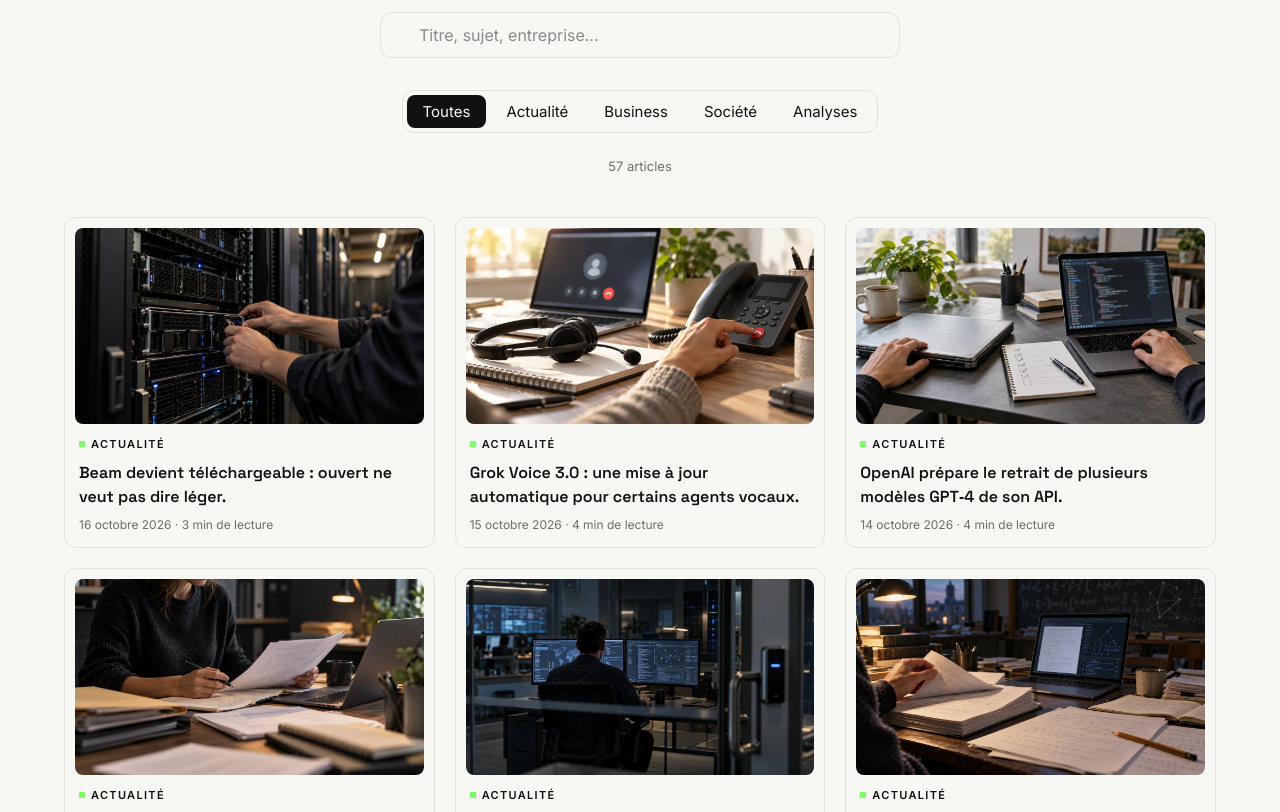
Test case: ArticleBrowser › shows the empty state with a reset link when nothing matches
Type "zzzz" into the search field named "Rechercher un article" at {"x": 653, "y": 35}, box [419,13,887,57]
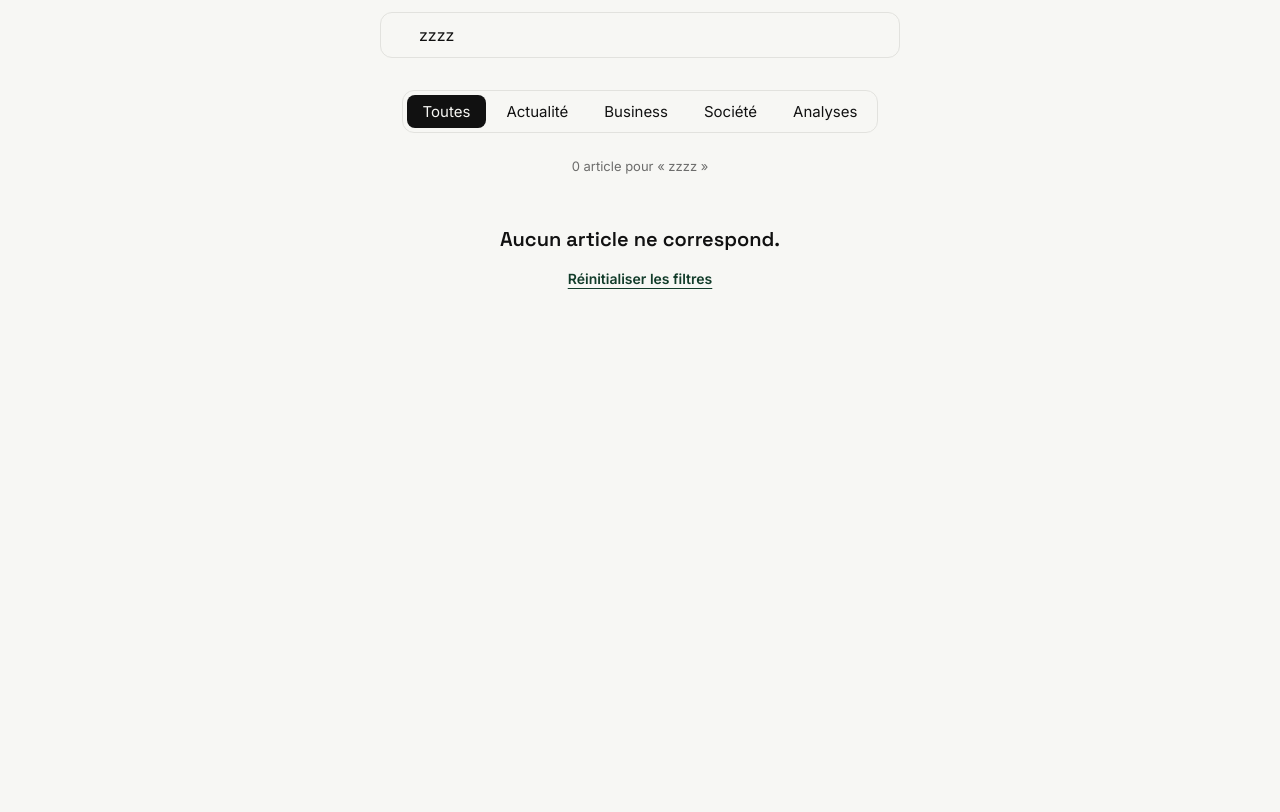
Expected: the text "Aucun article ne correspond." is shown, [500,226,780,252]
